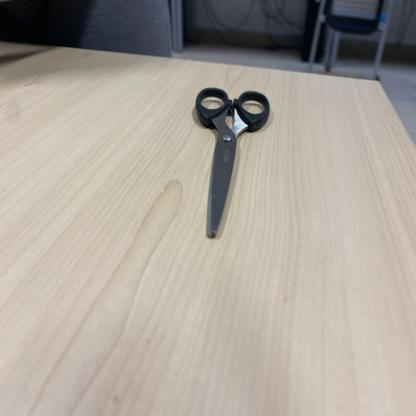scissors: (194, 87, 270, 240)
